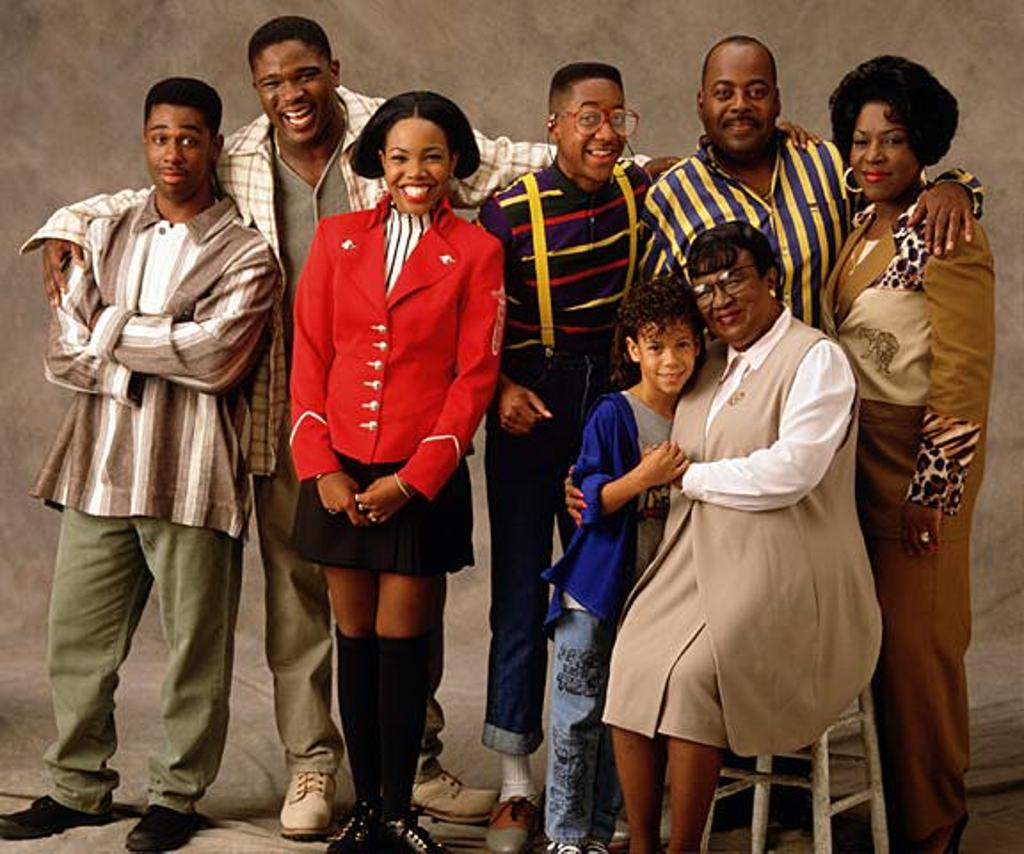face: (703, 63, 776, 151), (256, 58, 331, 141), (851, 109, 920, 199), (558, 90, 625, 180), (695, 257, 766, 339), (147, 113, 213, 195), (385, 133, 449, 212), (637, 325, 697, 393)
